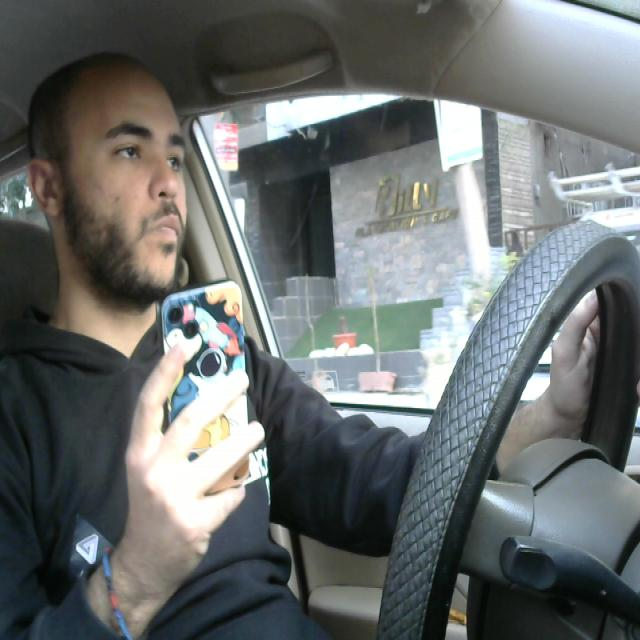mobile use: (157, 282, 273, 496)
